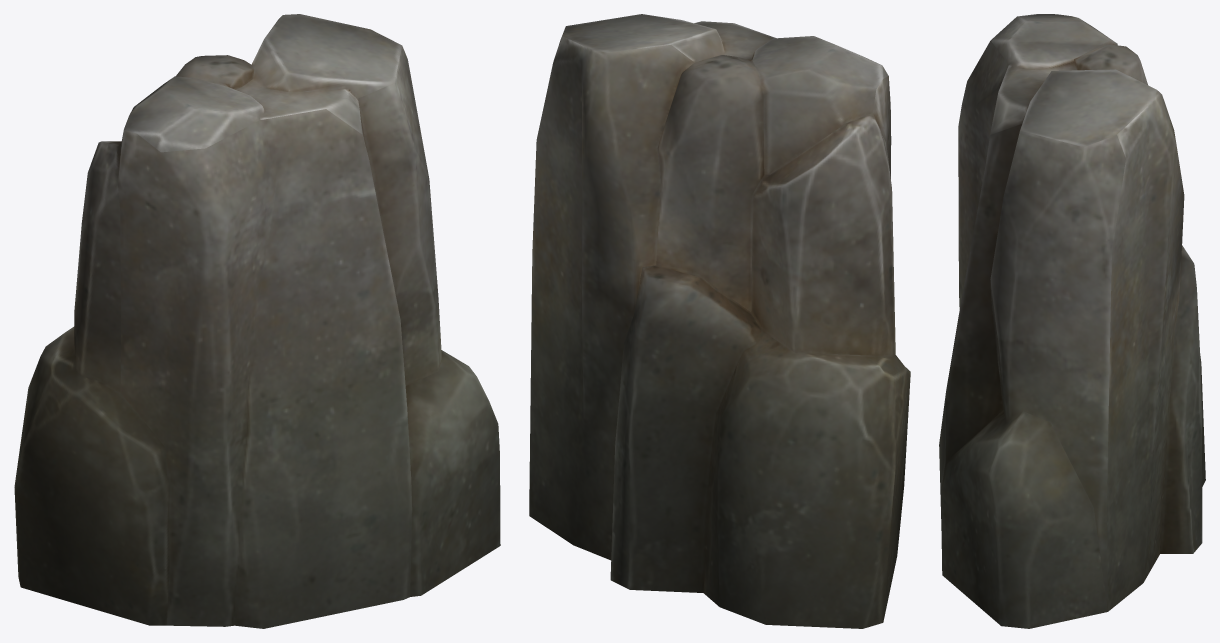
File: Rock3.fbx
3 renders of one model, left to right at view 1: azimuth 30°, elevation 25°; view 2: azimuth 150°, elevation 25°; view 3: azimuth 270°, elevation 25°, orthographic. The views are drawn at different scales.
Visible parts, largest first — view 1: RockWall2_ManualRetopo.002_Plane.017; view 2: RockWall2_ManualRetopo.002_Plane.017; view 3: RockWall2_ManualRetopo.002_Plane.017.
Boxes of the visible parts, <box> form: RockWall2_ManualRetopo.002_Plane.017: <box>14,14,500,628</box>; RockWall2_ManualRetopo.002_Plane.017: <box>529,14,910,628</box>; RockWall2_ManualRetopo.002_Plane.017: <box>939,14,1205,628</box>.
Size of the model in its own units: 378 by 440 by 224.
